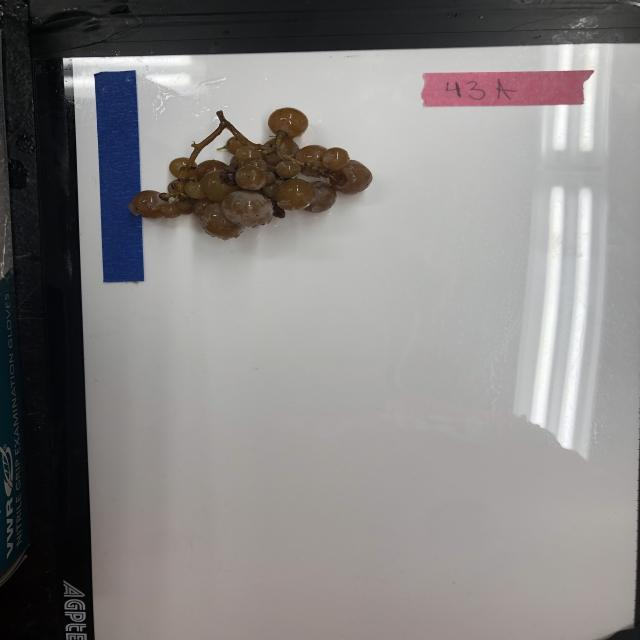grape_cluster: (130, 105, 378, 242)
index: (422, 68, 598, 108)
measure_label: (94, 68, 148, 284)
